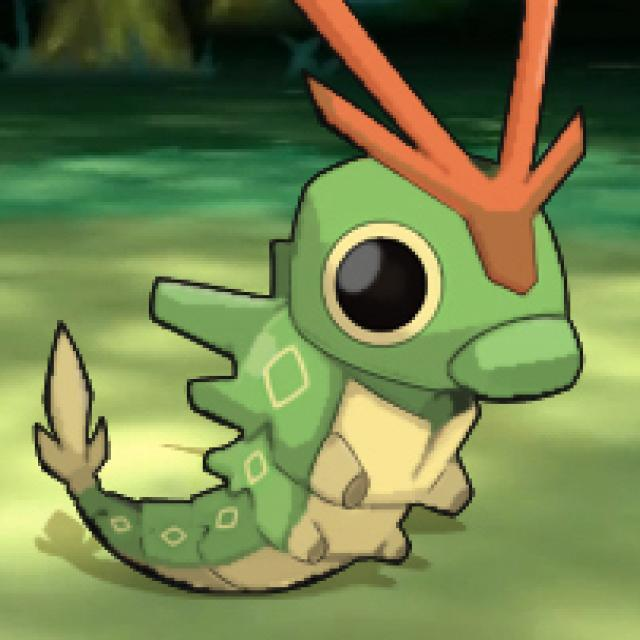Caterpie: (80, 74, 590, 589)
